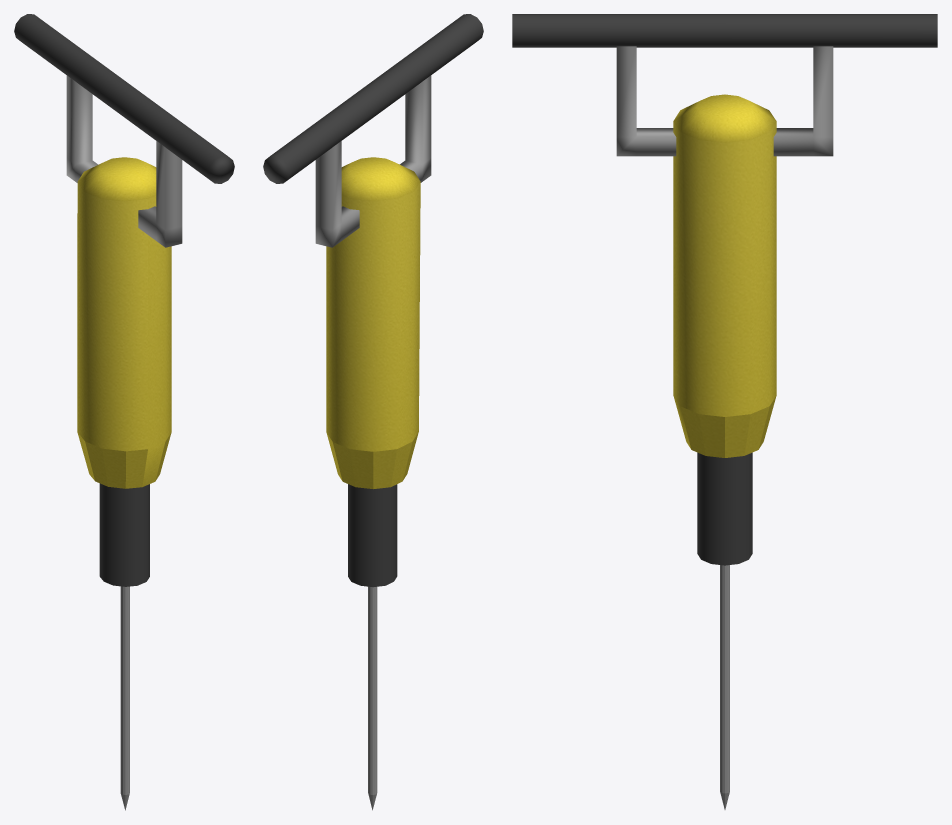
File: Drill.fbx
The picture shows the model from 3 angles, left to right: view 1: azimuth 30°, elevation 25°; view 2: azimuth 150°, elevation 25°; view 3: azimuth 270°, elevation 25°; orthographic projection. The views are drawn at different scales.
Visible parts, largest first — view 1: Drill; view 2: Drill; view 3: Drill.
Part boxes in pixels (<box>): Drill: <box>14,14,234,810</box>; Drill: <box>263,14,483,810</box>; Drill: <box>512,14,937,809</box>.
Size of the model in its own units: 2 by 16.98 by 8.23.
